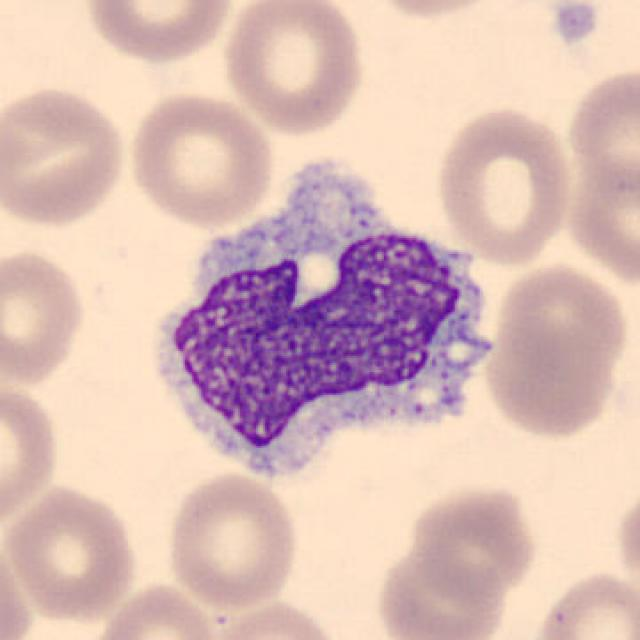Monocyte: (146, 148, 508, 494)
Platelets: (549, 0, 599, 46)
RBC: (480, 257, 633, 439), (432, 102, 576, 268), (123, 88, 277, 229), (218, 0, 369, 138), (2, 481, 142, 626), (162, 467, 302, 610), (0, 81, 130, 231), (406, 482, 540, 602), (372, 543, 510, 640), (0, 243, 89, 388), (562, 60, 640, 217), (562, 148, 640, 291), (80, 0, 236, 65), (0, 377, 64, 527), (89, 578, 220, 640), (530, 566, 638, 640), (203, 596, 345, 640), (0, 530, 35, 640), (357, 0, 512, 21), (612, 483, 638, 598)
